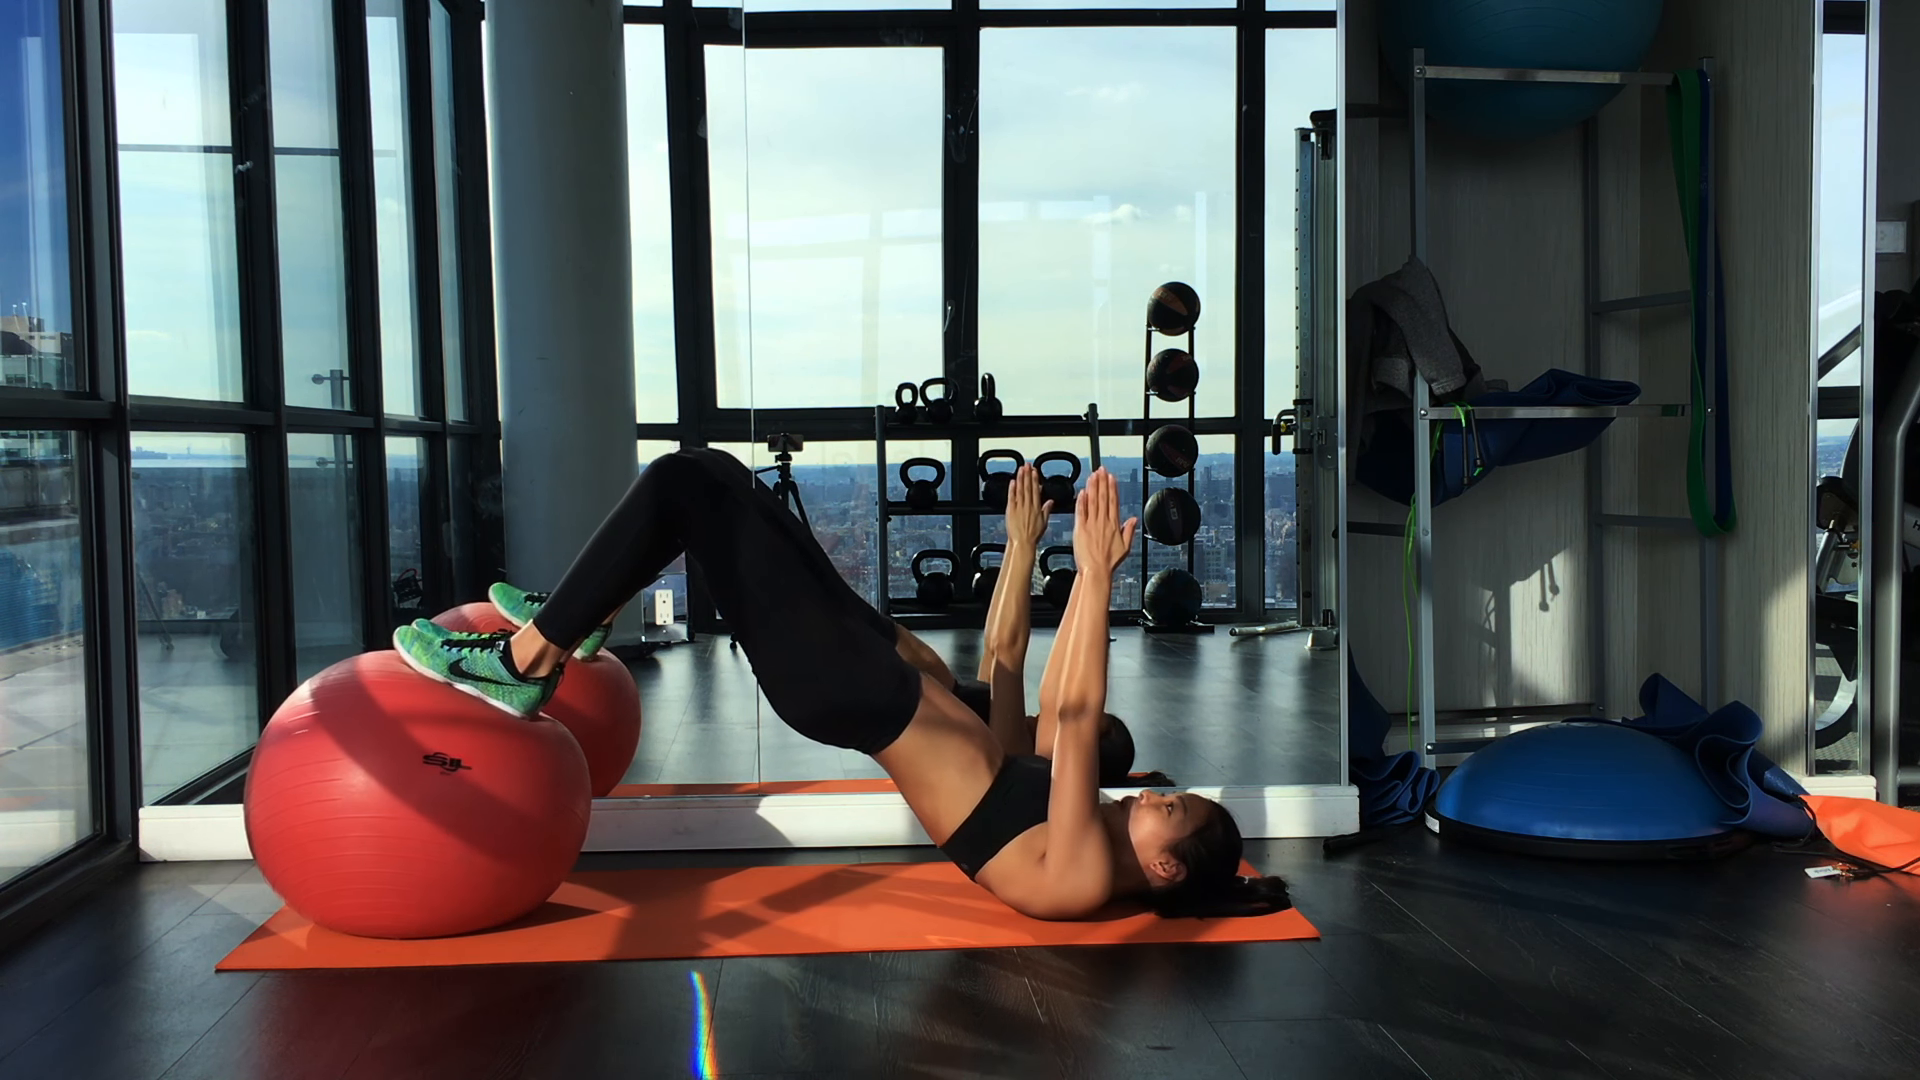yogaball: (233, 646, 600, 938)
